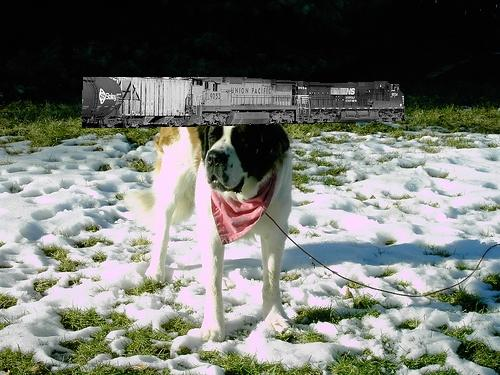tampered: (83, 78, 405, 128)
